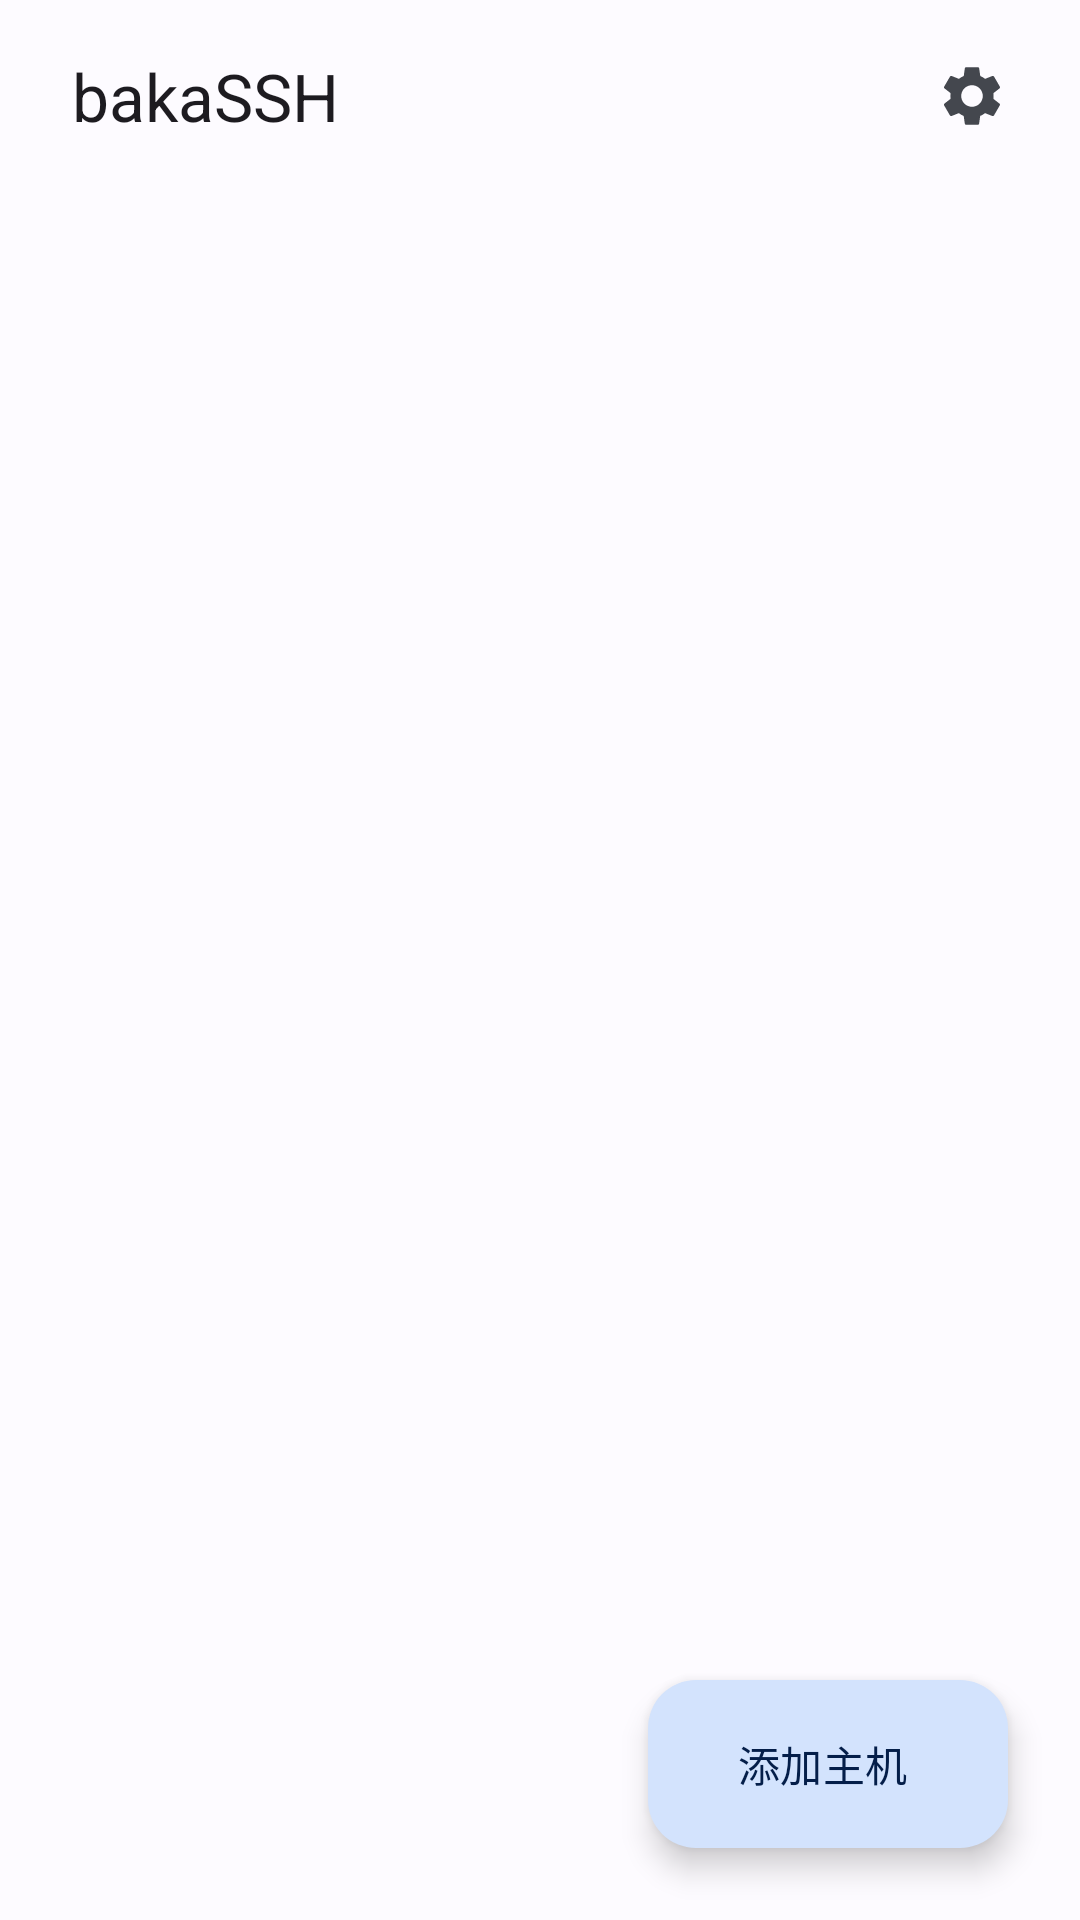

Icon bounding boxes for this 1080 x 1920 phone screenshot, format {"left": x1, "top": y1, "right": x2, "bottom": y2}:
设置: {"left": 944, "top": 67, "right": 1000, "bottom": 125}
